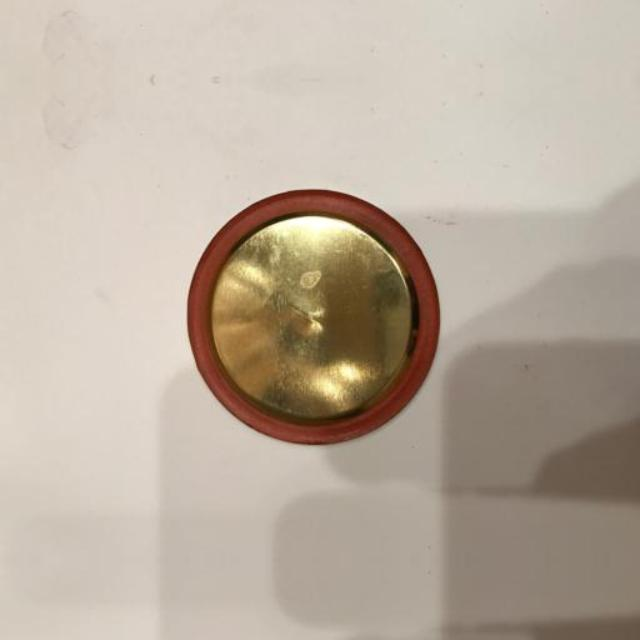Metal: (157, 164, 479, 481), (157, 639, 479, 640)
